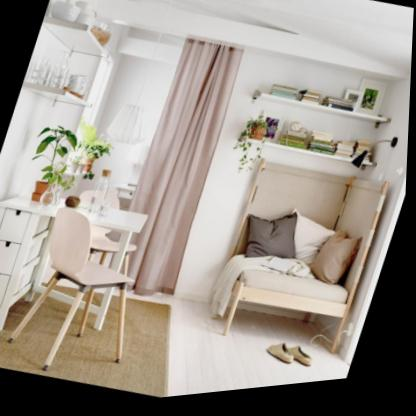Chair: (2, 195, 169, 398)
